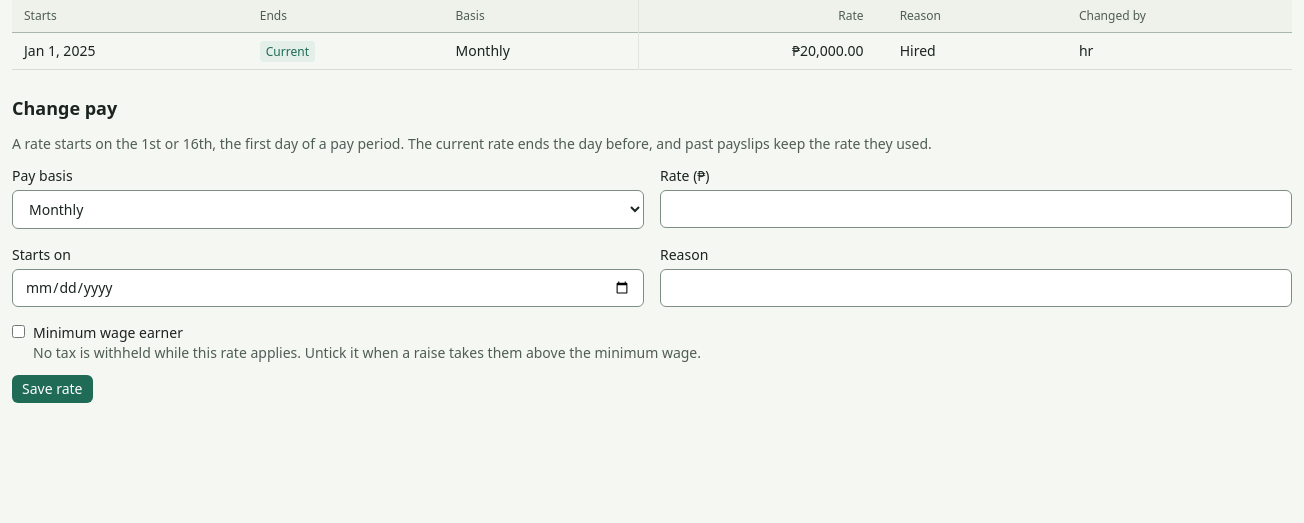
Scenario: CompensationTab › saves a rate for a minimum wage earner and marks it in the history
In the field labelled "Rate (₱)": (976, 209) [660,190,1292,228], type "15,000"
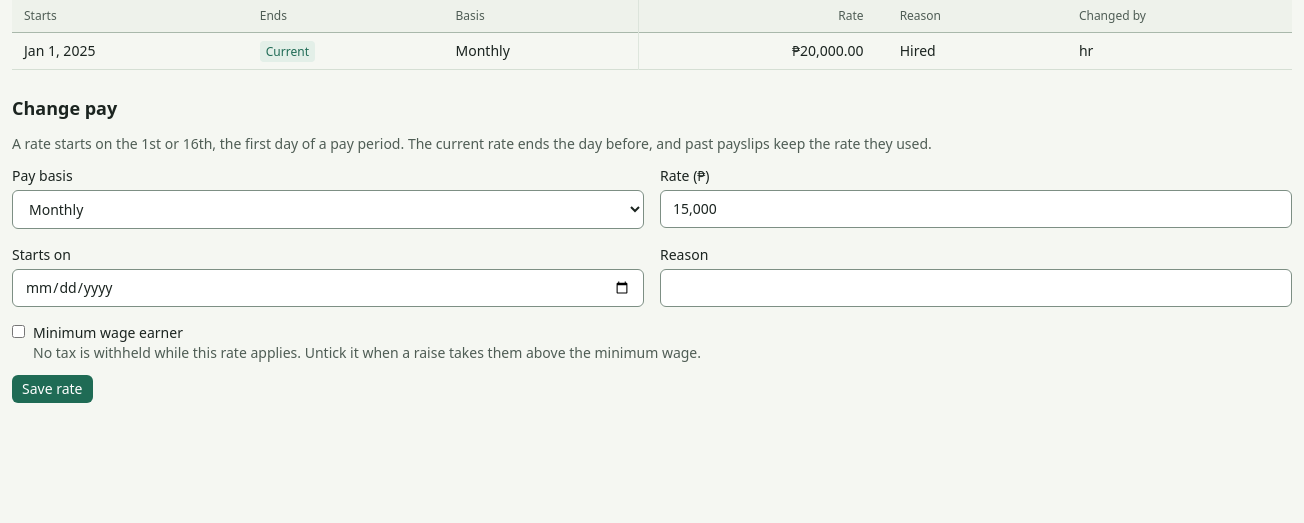
In the date field labelled "Starts on": (328, 288) [12,269,644,307], type "2026-03-01"
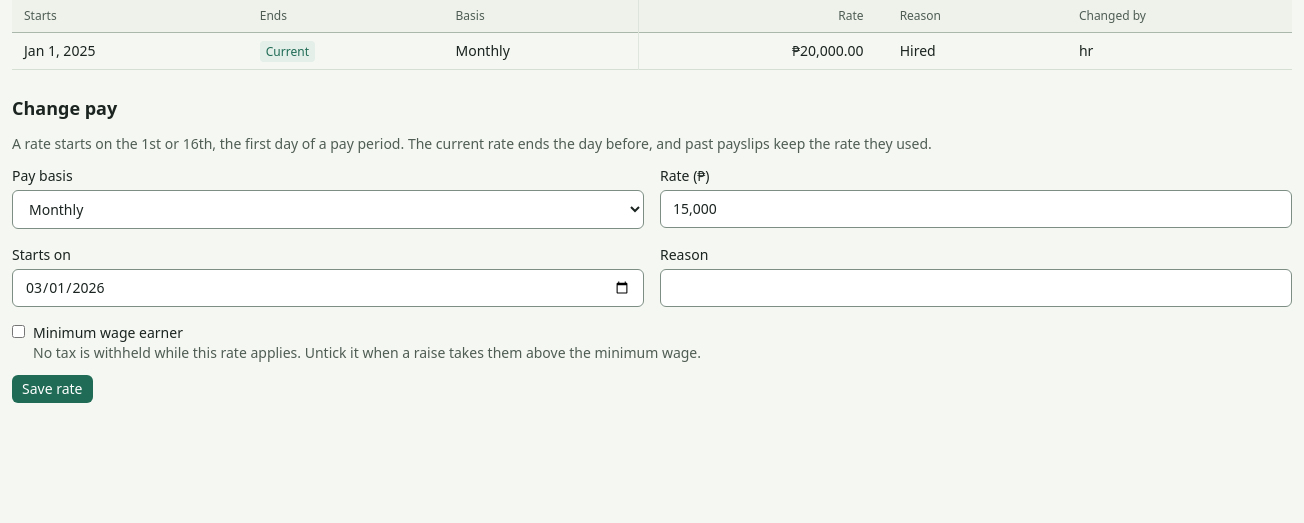
Click the checkbox labelled "Minimum wage earner": (18, 332) [12,325,25,338]
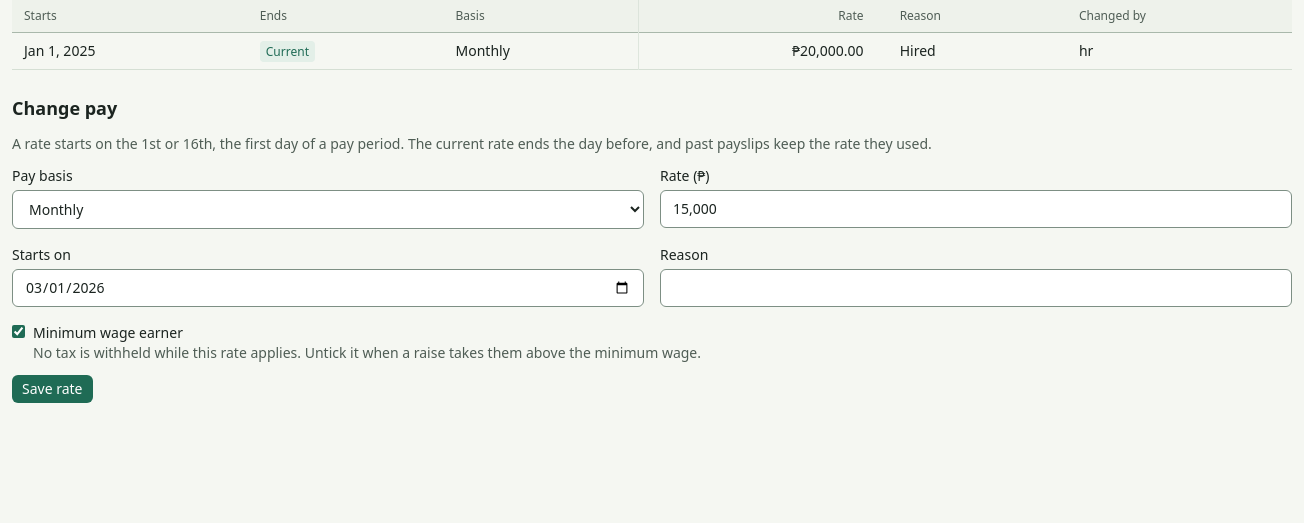
Click the button "Save rate": (52, 389) [12,375,92,403]
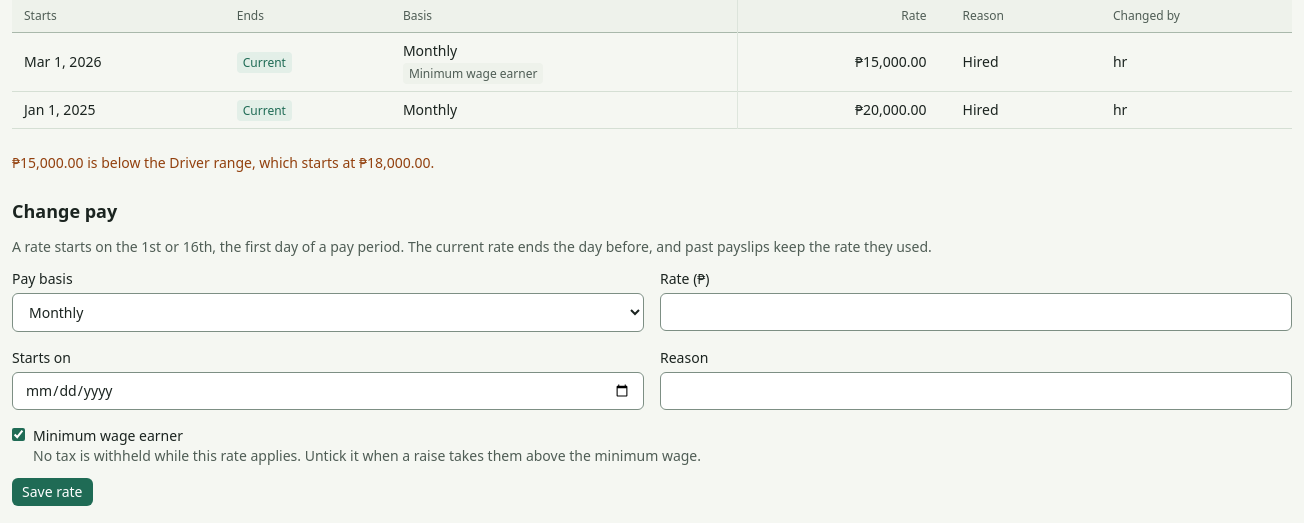
Now the text "Minimum wage earner" is shown, box [403,63,543,84]
